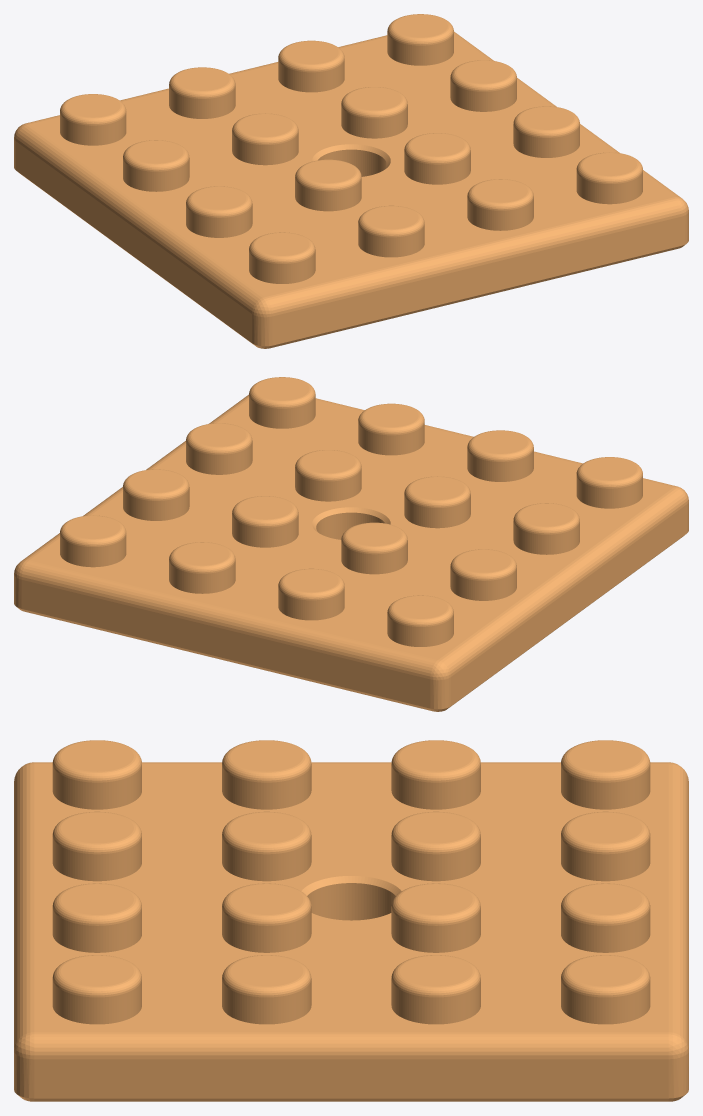
Rendered from kit-turntable.glb.
The picture shows the model from 3 angles, top to bottom: view 1: azimuth 30°, elevation 25°; view 2: azimuth 150°, elevation 25°; view 3: azimuth 270°, elevation 25°; orthographic projection. The views are drawn at different scales.
Visible parts, largest first — view 1: kit-turntable; view 2: kit-turntable; view 3: kit-turntable.
Part boxes in pixels (x1,y1,x2,y2): kit-turntable: (14, 14, 688, 348); kit-turntable: (14, 377, 688, 711); kit-turntable: (14, 740, 688, 1101).
Size of the model in its own units: 0.0498 by 0.008 by 0.0498.
